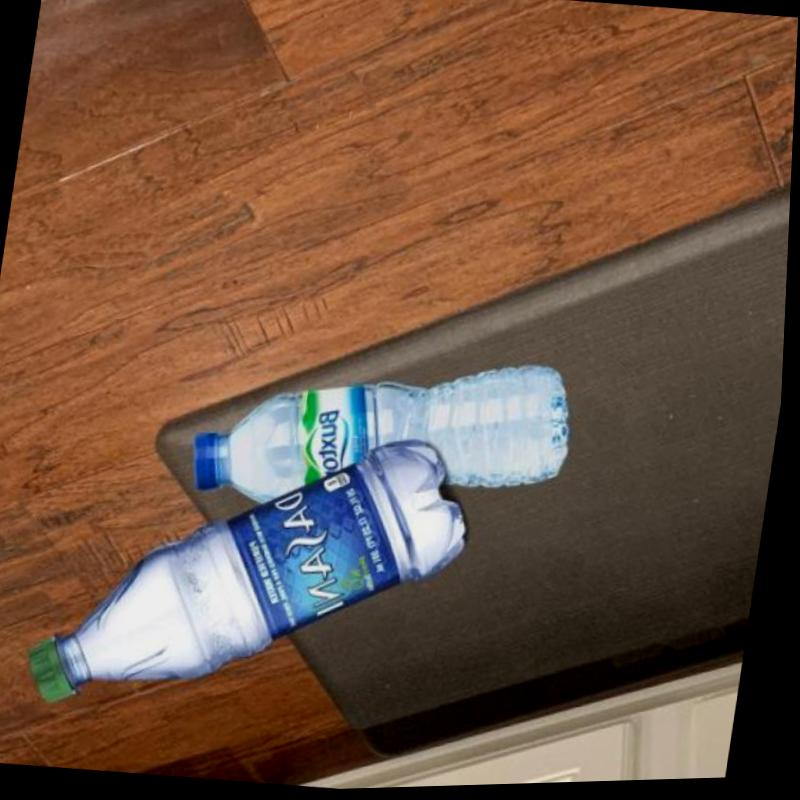botella: (29, 402, 483, 746), (185, 331, 587, 540)
